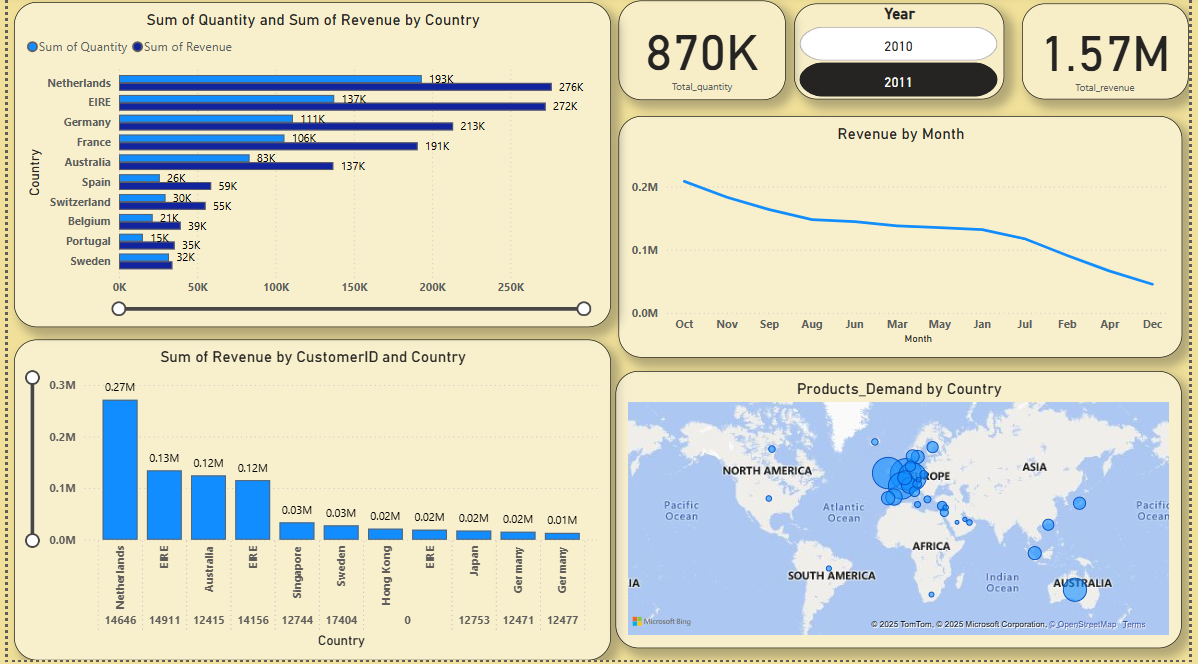

This screenshot's page, from the dashboard's own definition file:
{"tool":"powerbi","page":{"name":"Page 1","canvas":[1280,720],"ordinal":0},"visuals":[{"type":"advancedSlicerVisual","fields":{"Values":["Online Retail.Year"]},"box":[852.3,8.1,227.7,104.1],"z":0},{"type":"lineChart","fields":{"Category":["Online Retail.Month"],"Y":["Sum(Online Retail.Revenue)"]},"box":[662,130.1,611.6,261.9],"z":1000},{"type":"card","fields":{"Values":["Online Retail.Total_quantity"]},"box":[661.4,5.7,181.4,107.7],"z":2000},{"type":"card","fields":{"Values":["Online Retail.Total_revenue"]},"box":[1099.5,8.1,180.5,104.1],"z":3000},{"type":"clusteredBarChart","fields":{"Category":["Online Retail.Country"],"Y":["Sum(Online Retail.Quantity)","Sum(Online Retail.Revenue)"]},"box":[6.5,6.5,647.4,353],"z":4000},{"type":"clusteredColumnChart","fields":{"Category":["Online Retail.CustomerID","Online Retail.Country"],"Y":["Sum(Online Retail.Revenue)"]},"box":[6.5,372.5,647.4,348.1],"z":5000},{"type":"map","fields":{"Category":["Online Retail.Country"],"Size":["Sum(Online Retail.Revenue)"]},"box":[659.5,406.3,614.2,300.5],"z":6000}]}

Visuals, with their boxes in screenshot pixels (x1, y1, x2, y2), scaled from the page's 1280x720 canvas onto the 1198x664 screenshot:
advancedSlicerVisual - Online Retail.Year: box(798, 7, 1011, 103)
lineChart - Online Retail.Month x Sum(Online Retail.Revenue): box(620, 120, 1192, 362)
card - Online Retail.Total_quantity: box(619, 5, 789, 105)
card - Online Retail.Total_revenue: box(1029, 7, 1197, 103)
clusteredBarChart - Online Retail.Country x Sum(Online Retail.Quantity): box(6, 6, 612, 332)
clusteredColumnChart - Online Retail.CustomerID x Online Retail.Country: box(6, 344, 612, 663)
map - Online Retail.Country x Sum(Online Retail.Revenue): box(617, 375, 1192, 652)
